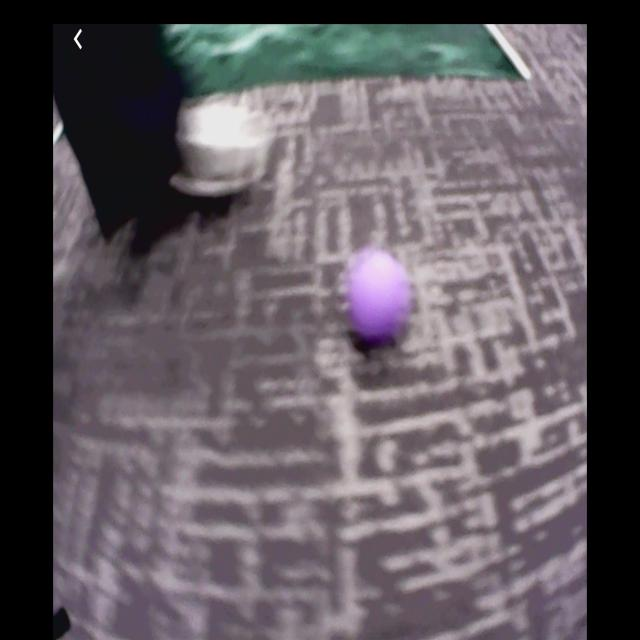ball: (349, 255, 405, 339)
